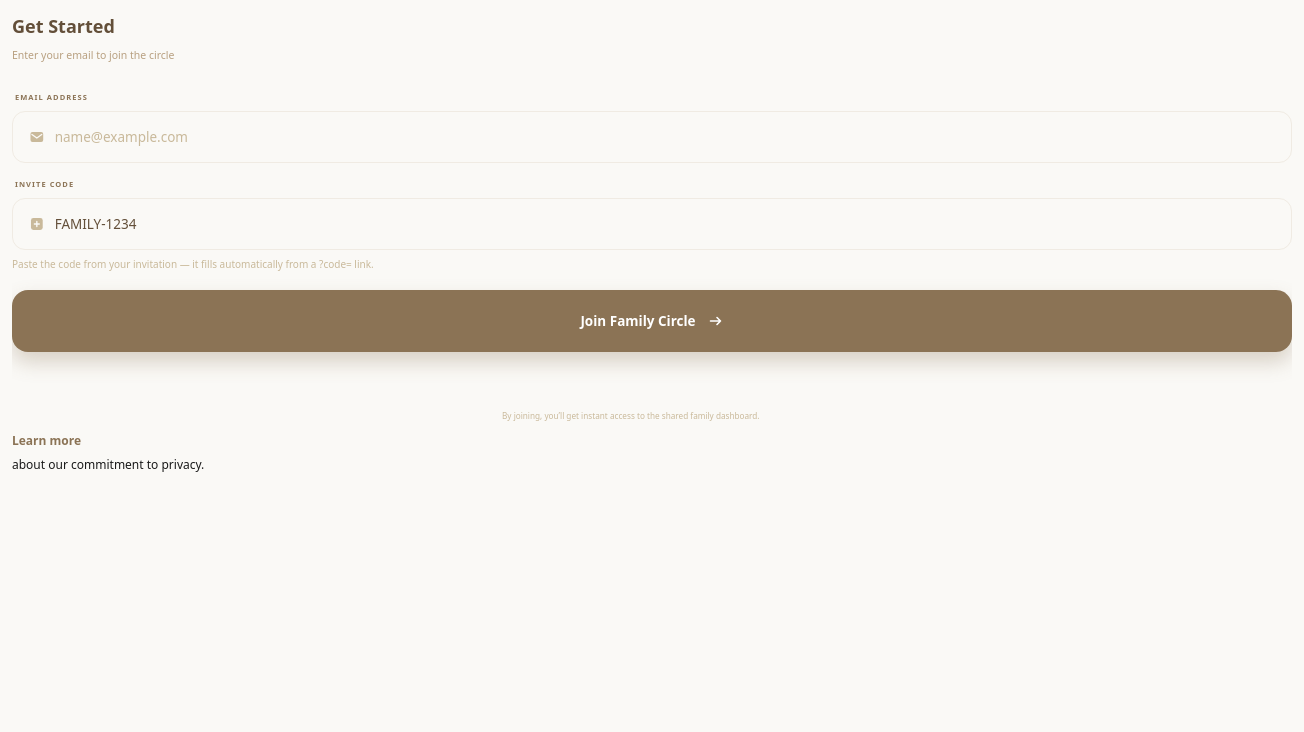
JoinFamilyForm › shows a form-level error when the join service fails
The image size is (1304, 732).
Step 1. Type "ada@example.com" into the field labelled "EMAIL ADDRESS" → (665,137), box [55,112,1275,162]
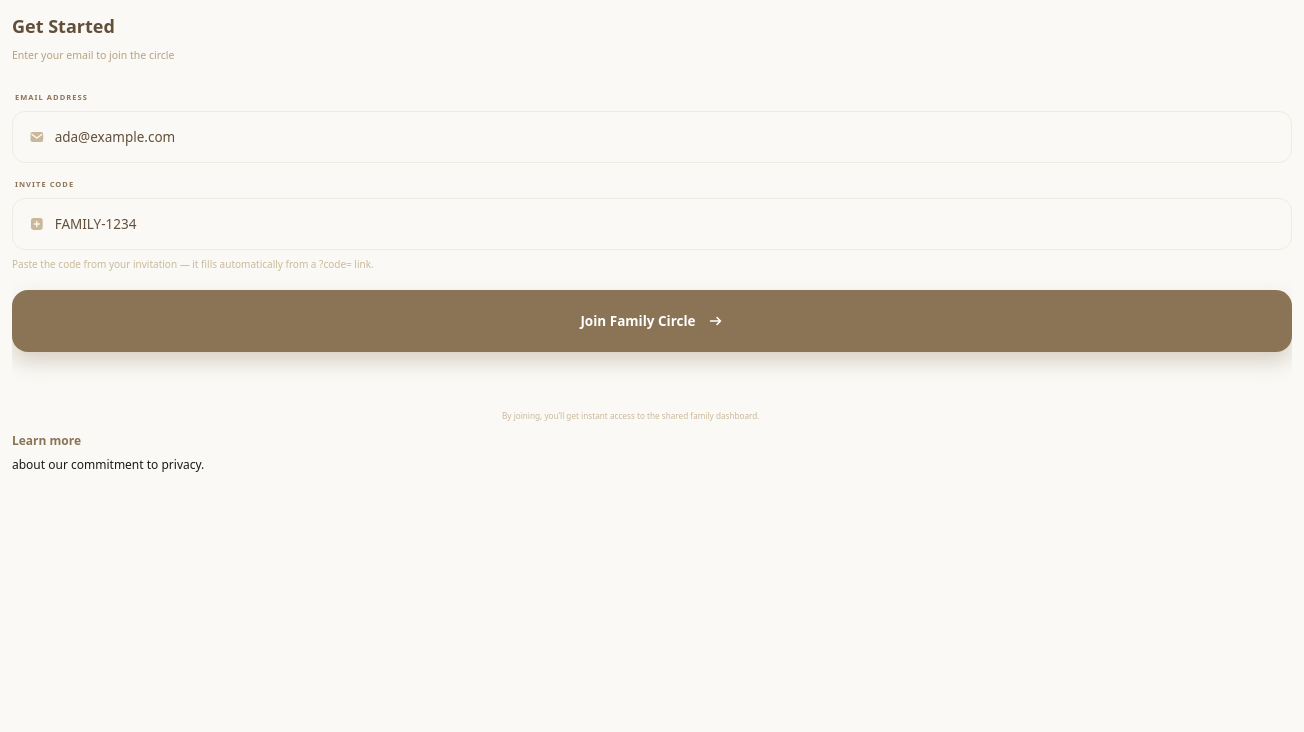
Step 2. Click the button "Join Family Circle" → (652,321), box [12,290,1292,352]
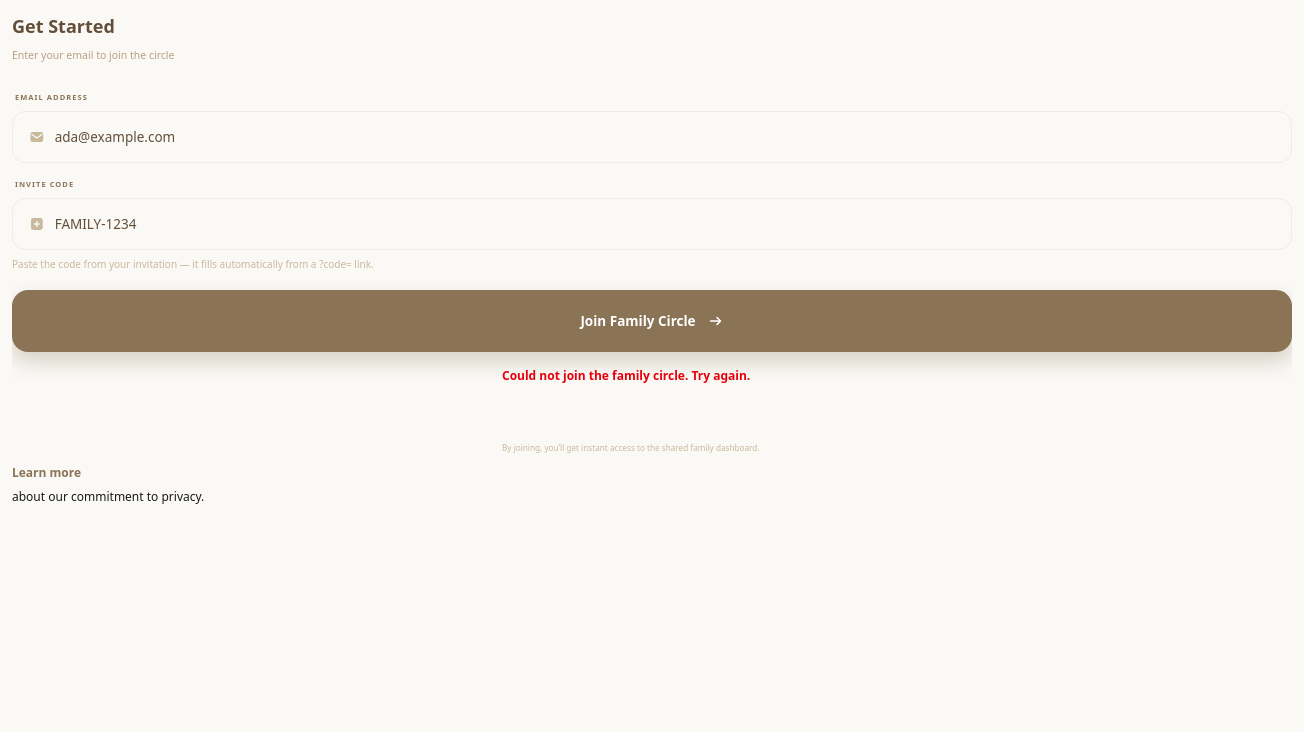
Result: the message shows "Could not join" at [502,367,750,384]
